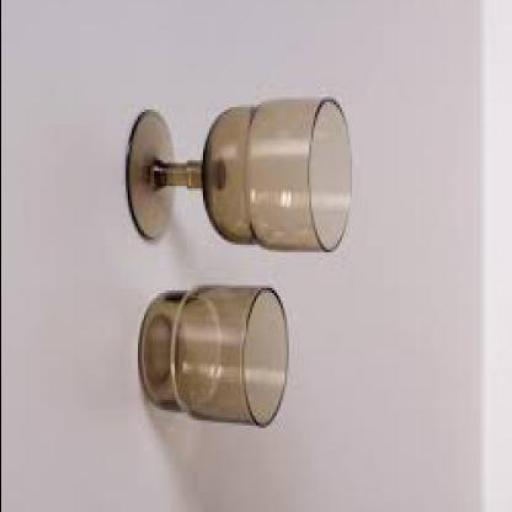glass: (127, 100, 351, 254), (139, 288, 289, 431)
